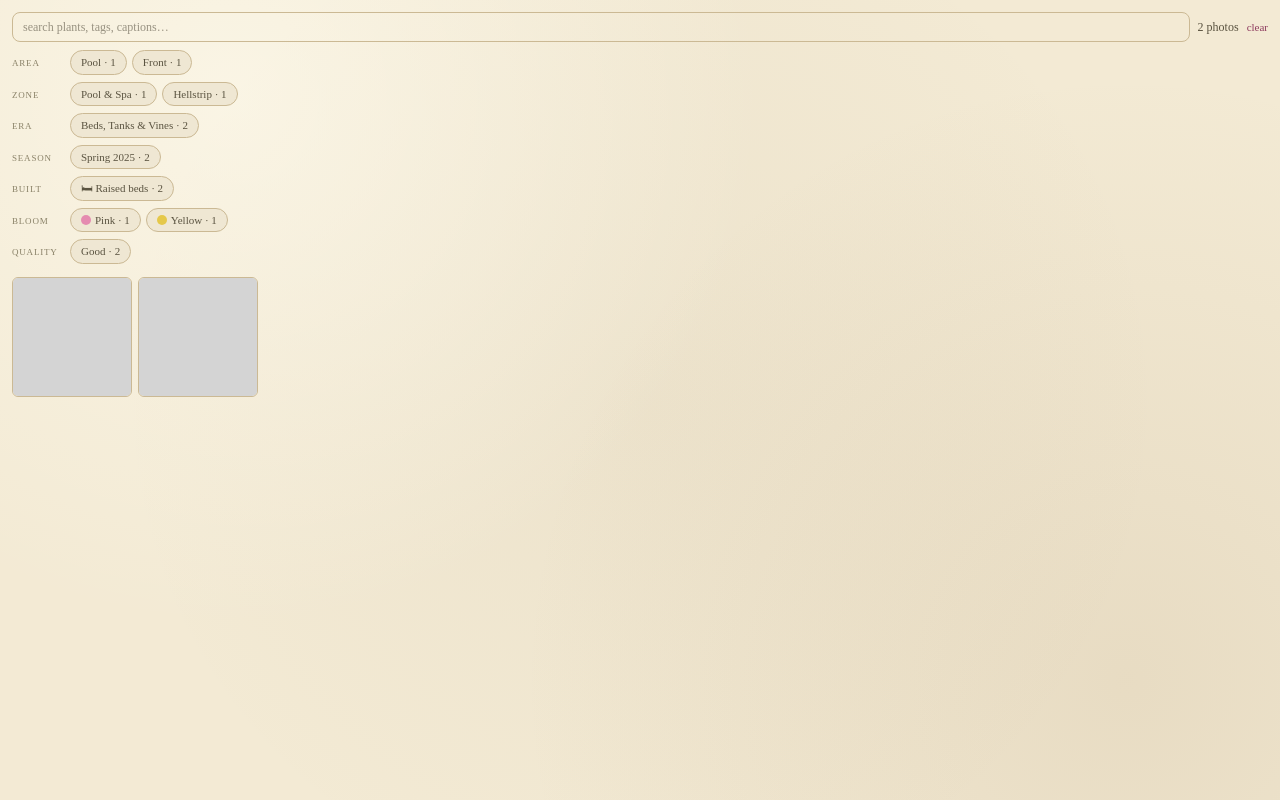
it: GalleryBrowser › narrows results when an area chip is toggled
Click the button "Front · 1" at (162, 62), box 132,50 -> 192,74
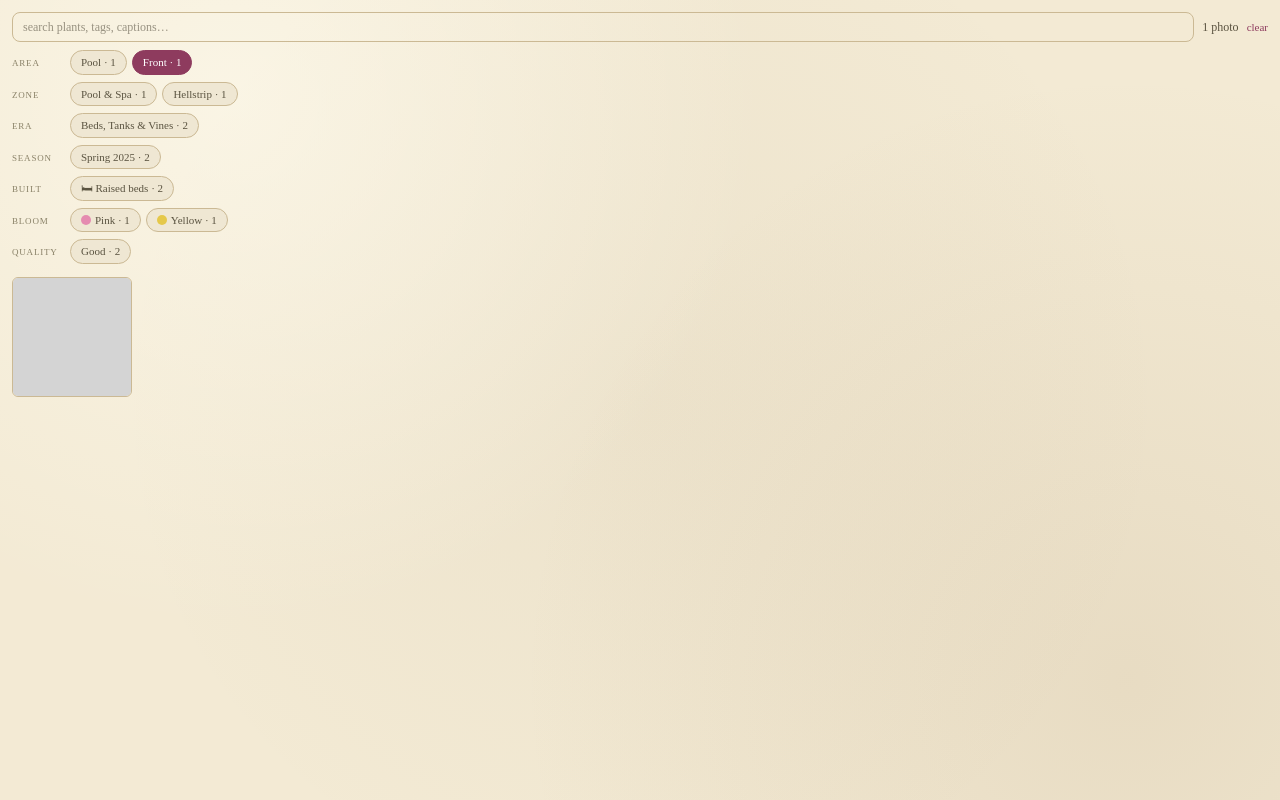
Expected: the text "1 photo" is shown, 1202,18 -> 1239,36
